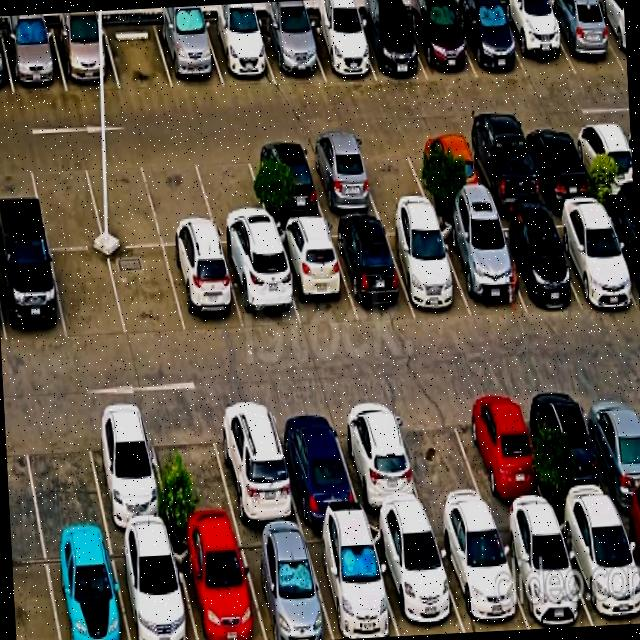empty: (389, 394, 491, 520), (146, 409, 238, 533), (20, 412, 107, 540), (193, 146, 273, 244), (83, 153, 163, 248), (142, 151, 218, 246), (28, 155, 104, 249), (108, 247, 186, 338), (51, 250, 126, 341), (353, 138, 431, 214), (104, 22, 173, 90)
occupied: (454, 390, 550, 515), (209, 400, 301, 529), (331, 399, 427, 519), (493, 514, 593, 629), (431, 517, 529, 633), (526, 386, 616, 511), (303, 524, 399, 640), (270, 403, 362, 524), (83, 410, 172, 534), (368, 523, 465, 636), (237, 530, 333, 640), (555, 507, 640, 626), (172, 532, 265, 640), (547, 205, 639, 307), (110, 534, 197, 640), (489, 214, 580, 313), (436, 218, 527, 317), (43, 537, 129, 640), (274, 224, 357, 328), (383, 220, 471, 317), (329, 221, 414, 321), (579, 385, 640, 506), (164, 245, 244, 334), (221, 243, 301, 330), (461, 130, 544, 210), (0, 247, 66, 345), (246, 143, 325, 224), (302, 140, 380, 219), (498, 4, 576, 80), (408, 134, 487, 209), (543, 4, 625, 75), (520, 125, 595, 202), (405, 6, 477, 81), (453, 6, 527, 78), (354, 12, 427, 81), (204, 20, 276, 87), (570, 122, 634, 196), (154, 21, 224, 88), (52, 24, 120, 92), (304, 17, 376, 81), (1, 26, 67, 95), (258, 20, 325, 84), (602, 204, 640, 304), (593, 1, 627, 72), (616, 504, 640, 577)
